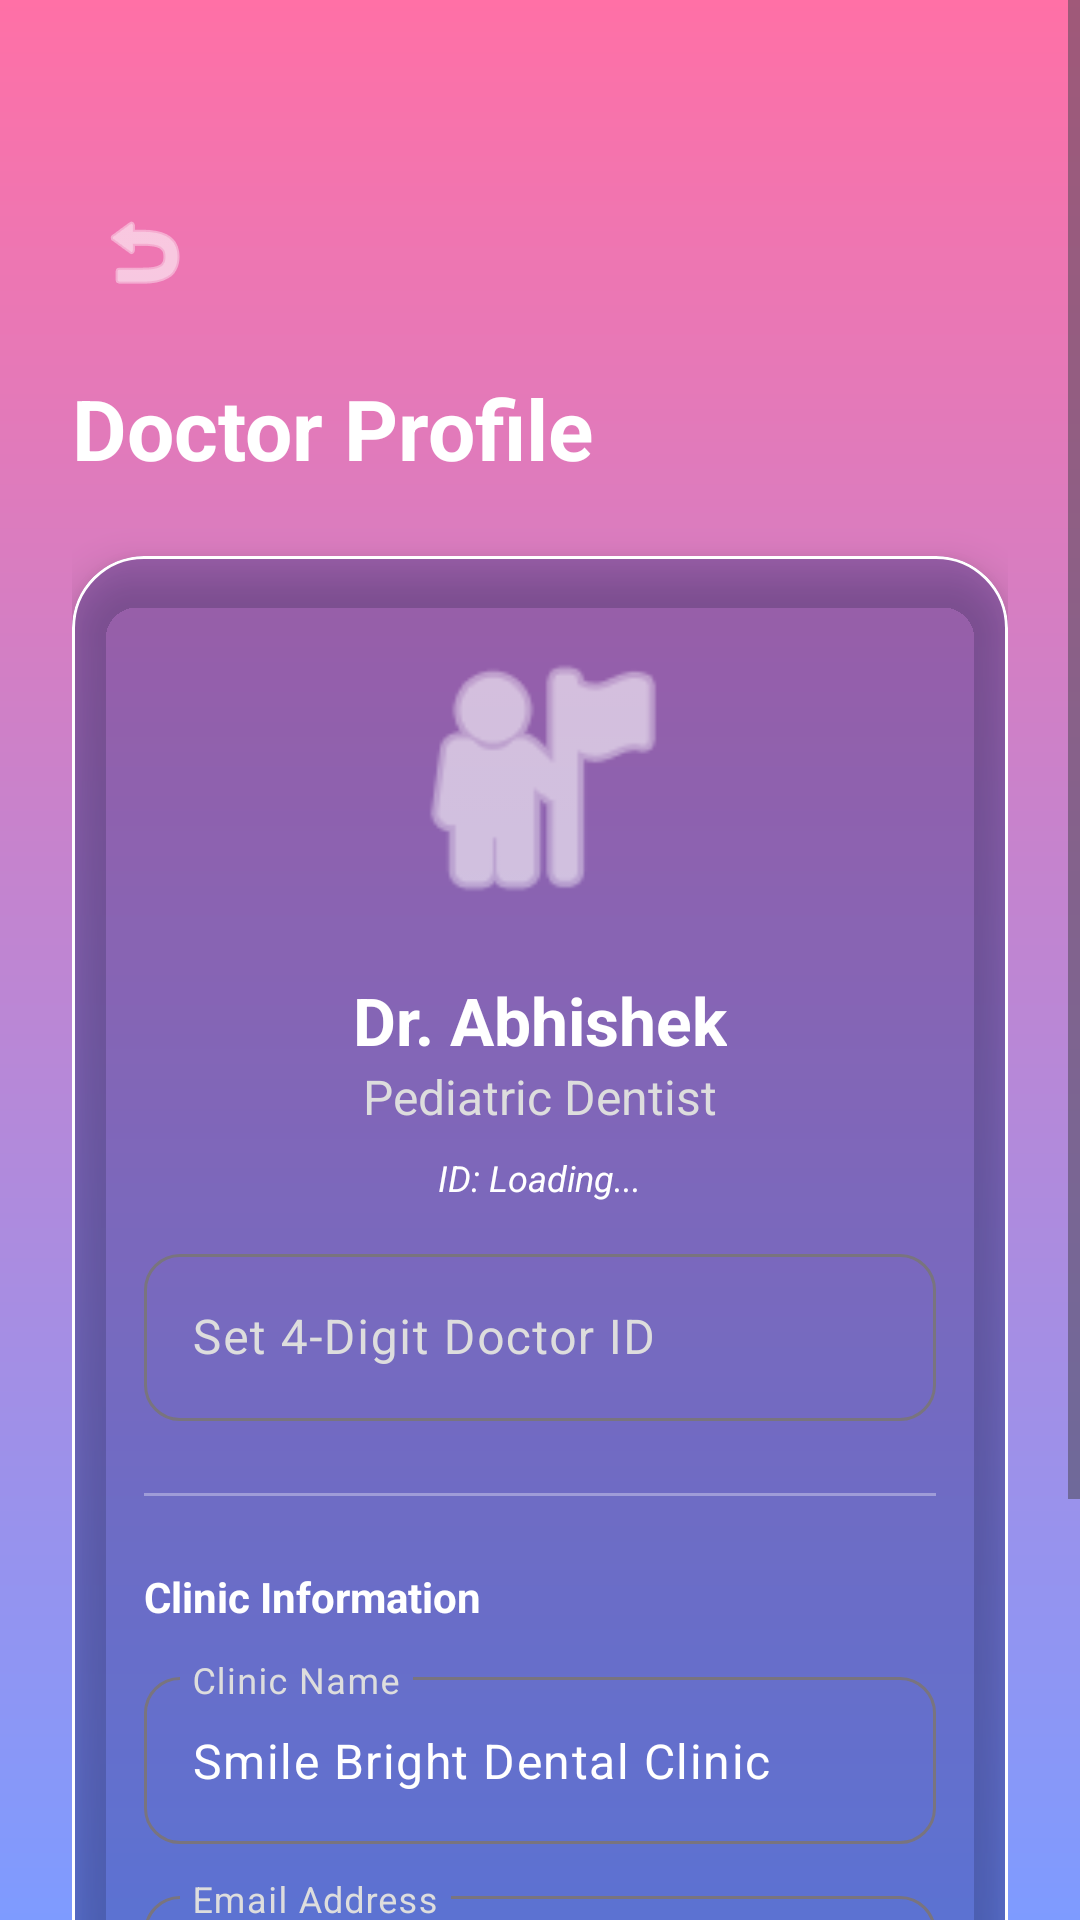

Icon click points for this 1080*1920 phone screenshot, format point (x, y):
myplaces: point (543, 777)
revert: point (145, 253)
